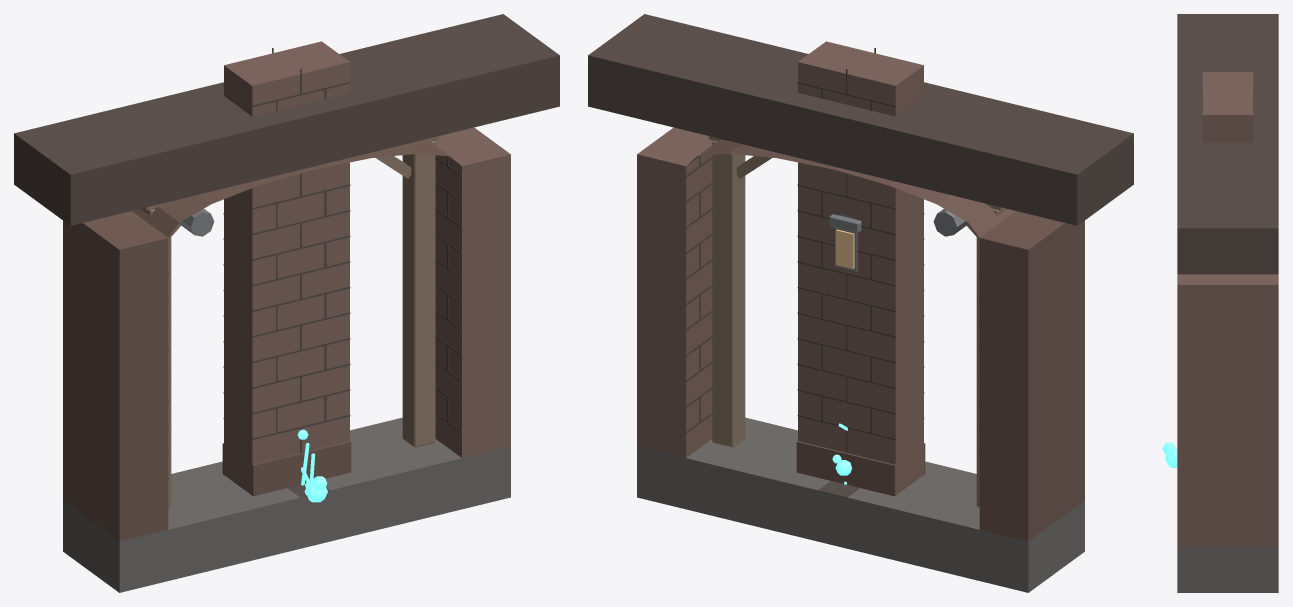
File: underneath.glb
The picture shows the model from 3 angles, left to right: view 1: azimuth 30°, elevation 25°; view 2: azimuth 150°, elevation 25°; view 3: azimuth 270°, elevation 25°; orthographic projection. The views are drawn at different scales.
Parts seen in each view (by area): view 1: un_tunnel_mesh, un_wall_mesh, un_prop_mesh, un_growth_mesh; view 2: un_tunnel_mesh, un_wall_mesh, un_prop_mesh, un_lamp_mesh, un_tunnel_open_mesh; view 3: un_tunnel_mesh, un_wall_mesh, un_growth_mesh.
Part boxes in pixels (left/top/right/bottom): un_tunnel_mesh: left=14, top=14, right=559, bottom=592; un_wall_mesh: left=222, top=41, right=351, bottom=496; un_prop_mesh: left=140, top=136, right=439, bottom=507; un_growth_mesh: left=297, top=429, right=327, bottom=502; un_tunnel_mesh: left=588, top=14, right=1133, bottom=592; un_wall_mesh: left=796, top=41, right=925, bottom=496; un_prop_mesh: left=708, top=136, right=1007, bottom=507; un_lamp_mesh: left=829, top=213, right=861, bottom=271; un_tunnel_open_mesh: left=691, top=156, right=885, bottom=497; un_tunnel_mesh: left=1177, top=14, right=1278, bottom=592; un_wall_mesh: left=1202, top=72, right=1253, bottom=142; un_growth_mesh: left=1162, top=442, right=1177, bottom=467.
Bounding box in the file's own units: 5 × 4.55 × 1.15.
